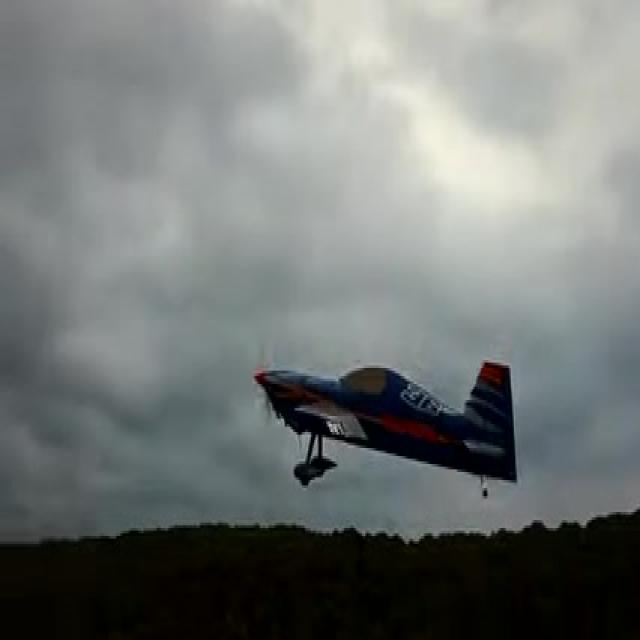iha: (250, 347, 521, 504)
